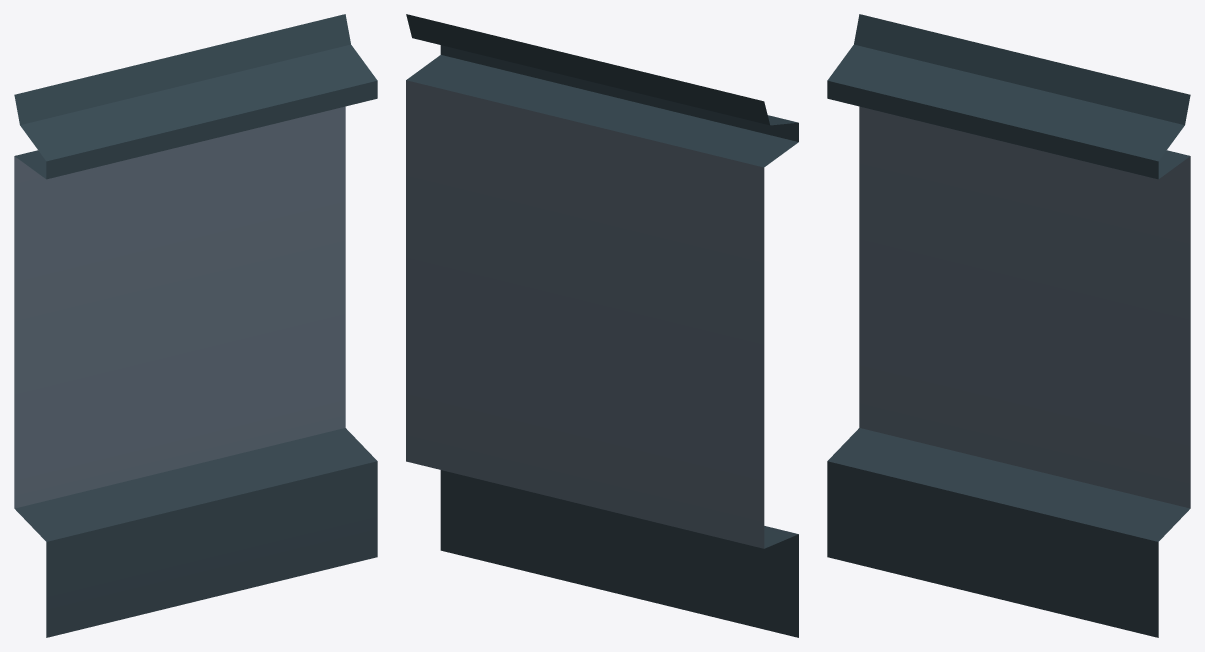
Rendered from Wall_plain_A.fbx.
The picture shows the model from 3 angles, left to right: view 1: azimuth 30°, elevation 25°; view 2: azimuth 150°, elevation 25°; view 3: azimuth 330°, elevation 25°; orthographic projection. The views are drawn at different scales.
Visible parts, largest first — view 1: Wall_plain_A; view 2: Wall_plain_A; view 3: Wall_plain_A.
Boxes of the visible parts, x1,y1,x2,y2 form: Wall_plain_A: [14, 14, 377, 637]; Wall_plain_A: [406, 14, 798, 637]; Wall_plain_A: [827, 14, 1190, 637].
Bounding box in the file's own units: 200 × 300 × 33.54.
